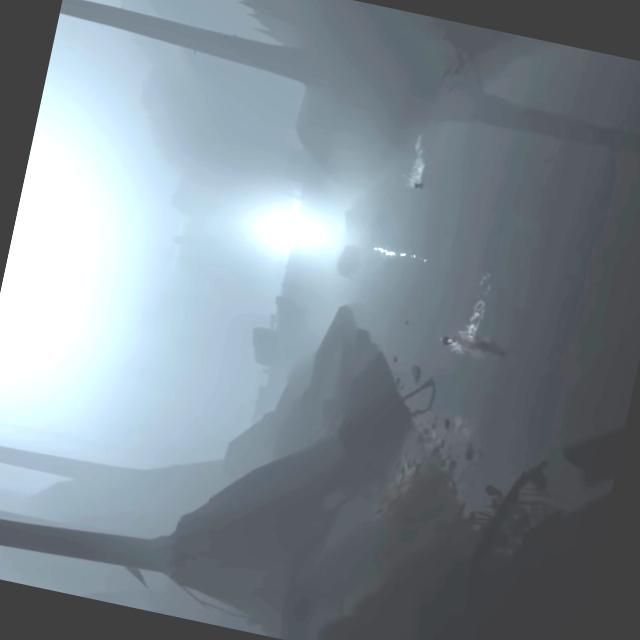boy: (438, 328, 478, 352)
